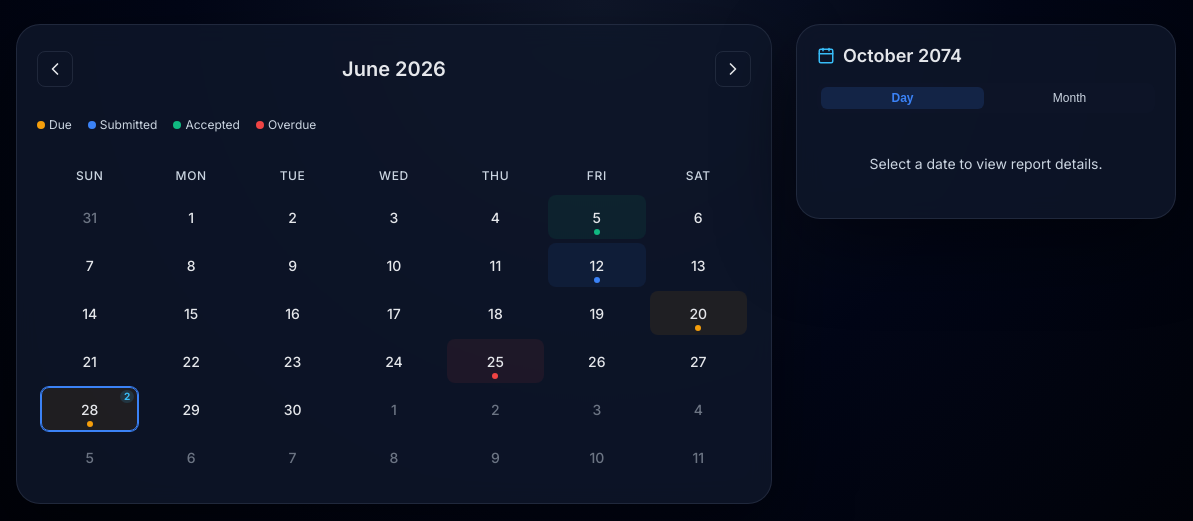
Scenario: RevenueReportingCalendar › Month navigation › navigates to previous month when left arrow is clicked
What coordinates should you click on to do the following:
click the button named "previous month"
I would click on:
 (55, 69)
Its box is 37,51 -> 73,87.
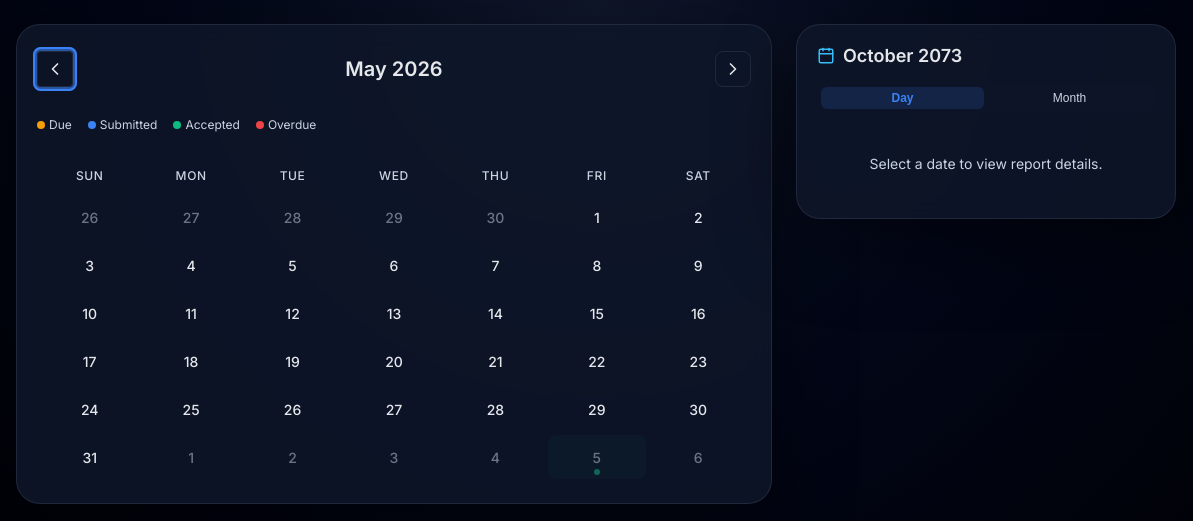
Now the heading "May 2026" is shown, box 345,57 -> 443,81
